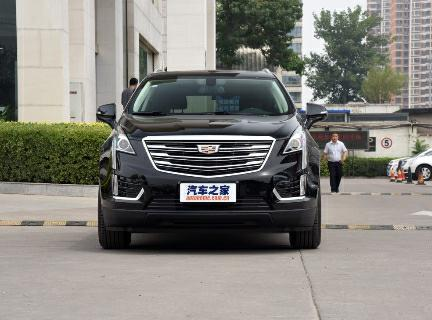凯迪拉克-SLS赛威: (88, 63, 334, 263)
